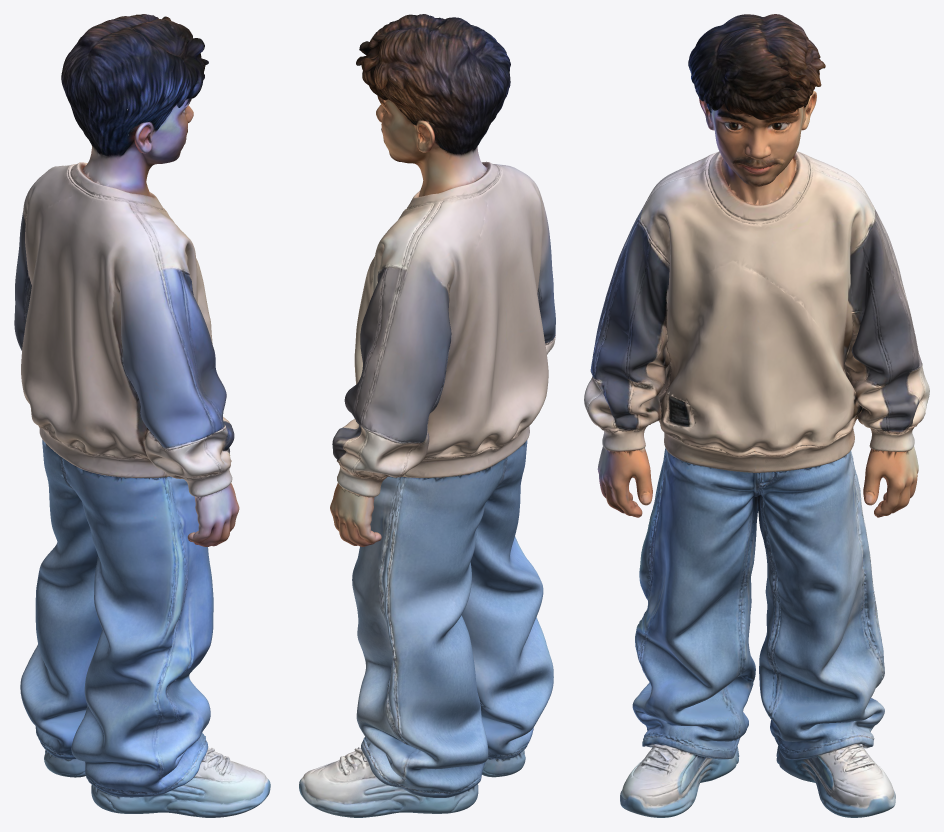
Rendered from avatar-2.glb.
3 views of the same model, side by side, from view 1: azimuth 30°, elevation 25°; view 2: azimuth 150°, elevation 25°; view 3: azimuth 270°, elevation 25° (orthographic).
Visible parts, largest first — view 1: tripo_node_94a9826d-7b1f-434d-97cc-ad3ab71e2c15; view 2: tripo_node_94a9826d-7b1f-434d-97cc-ad3ab71e2c15; view 3: tripo_node_94a9826d-7b1f-434d-97cc-ad3ab71e2c15.
Part boxes in pixels (left/top/right/bottom): tripo_node_94a9826d-7b1f-434d-97cc-ad3ab71e2c15: left=14, top=14, right=270, bottom=817; tripo_node_94a9826d-7b1f-434d-97cc-ad3ab71e2c15: left=299, top=14, right=555, bottom=817; tripo_node_94a9826d-7b1f-434d-97cc-ad3ab71e2c15: left=584, top=14, right=929, bottom=817.
Bounding box in the file's own units: 0.2279 × 0.9792 × 0.4017.
1 material, 1 textured.
